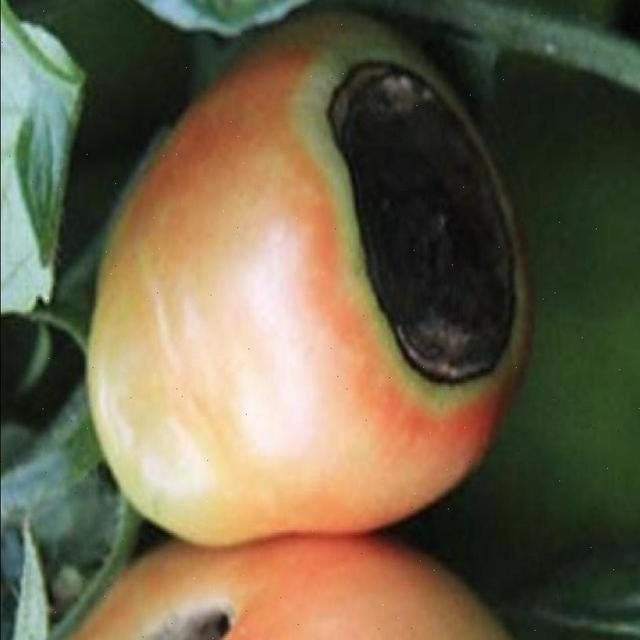Blossom End Rot Fruit: (68, 32, 278, 411)
